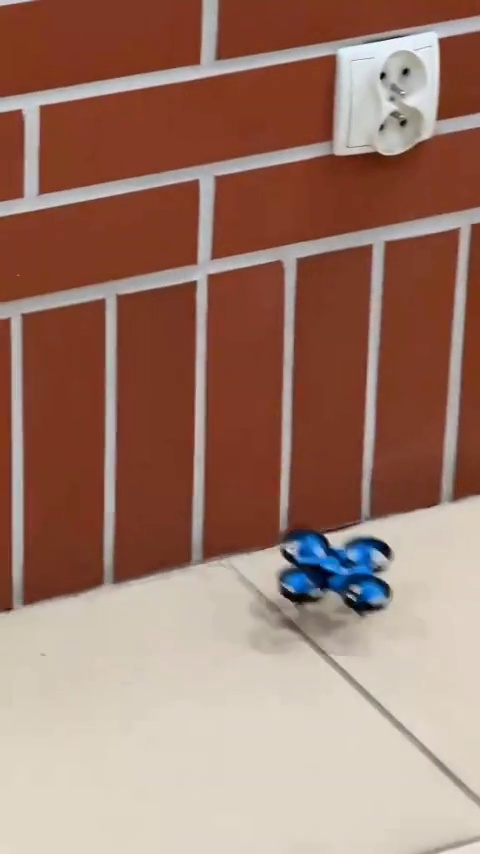drone: (274, 527, 396, 611)
